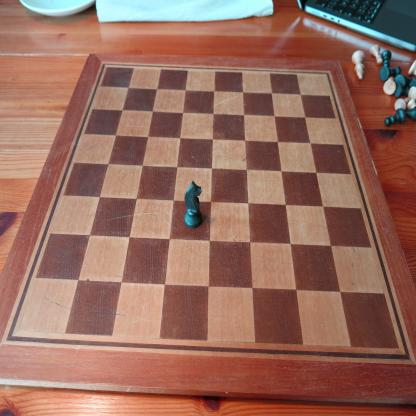black-knight: (184, 180, 203, 229)
black-pawn: (384, 107, 406, 127), (381, 50, 392, 68)
white-bishop: (351, 50, 366, 82)
white-pawn: (369, 44, 383, 66)
